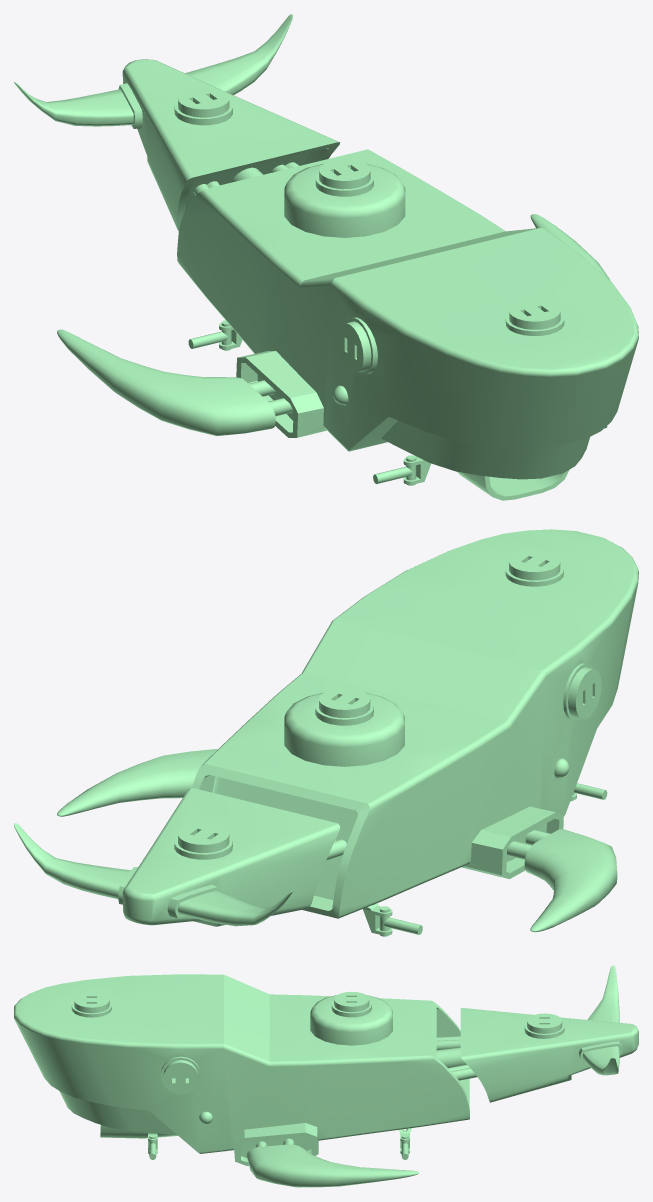
Rendered from WhaleChassis.fbx.
The picture shows the model from 3 angles, top to bottom: view 1: azimuth 30°, elevation 25°; view 2: azimuth 150°, elevation 25°; view 3: azimuth 270°, elevation 25°; orthographic projection. The views are drawn at different scales.
Visible parts, largest first — view 1: body2; view 2: body2; view 3: body2.
Part boxes in pixels (<box>): body2: <box>14,14,638,500</box>; body2: <box>14,529,638,936</box>; body2: <box>14,965,638,1187</box>.
Size of the model in its own units: 19.18 by 7.24 by 31.09.
